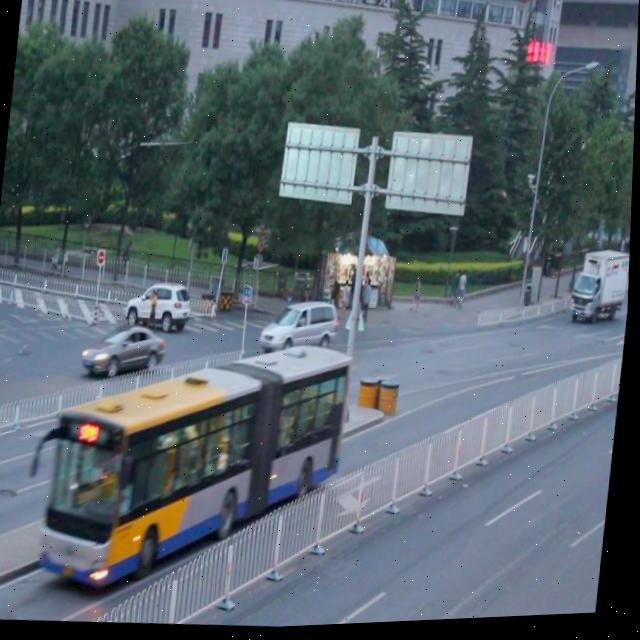bus: (569, 255, 631, 328)
car: (82, 320, 169, 380), (261, 298, 341, 357), (125, 279, 195, 337)
van: (39, 327, 357, 606)
